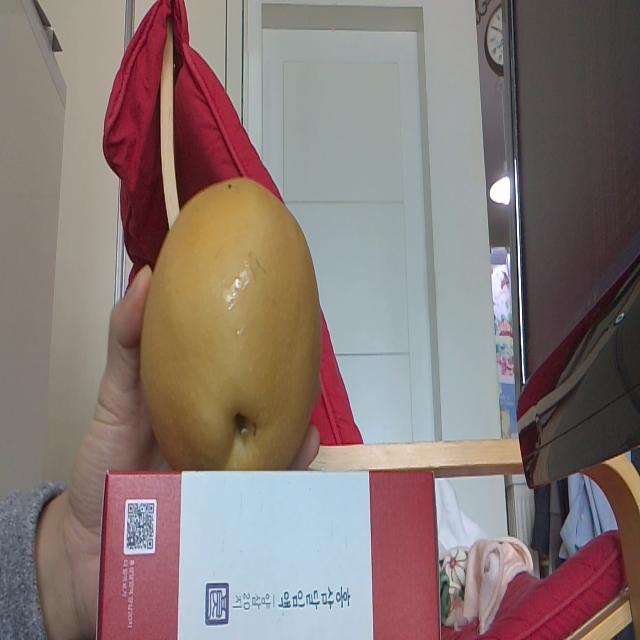pear: (138, 178, 326, 467)
